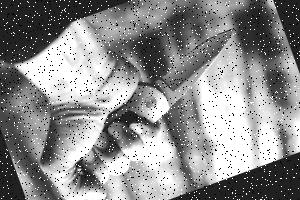knife: (52, 15, 240, 197)
